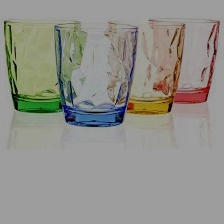glass: (52, 18, 141, 131), (1, 12, 83, 121), (103, 17, 187, 118), (141, 15, 221, 108)
